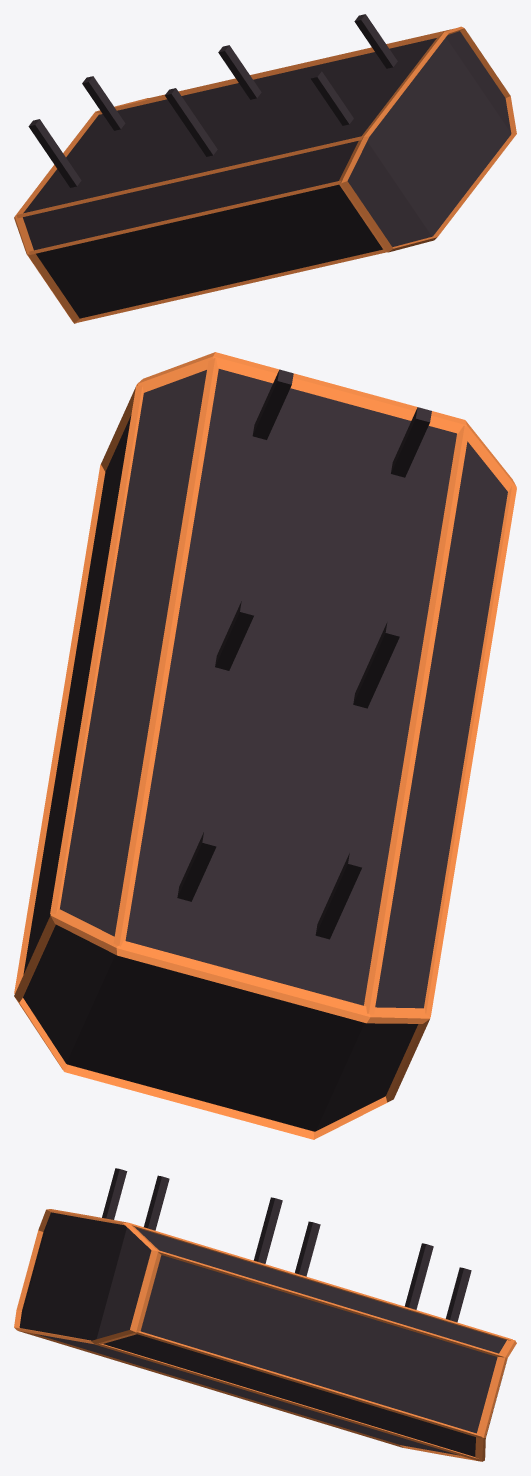
File: F2.Cargo.003.fbx
The picture shows the model from 3 angles, top to bottom: view 1: azimuth 30°, elevation 25°; view 2: azimuth 150°, elevation 25°; view 3: azimuth 270°, elevation 25°; orthographic projection. The views are drawn at different scales.
Visible parts, largest first — view 1: F2.Cargo.001; view 2: F2.Cargo.001; view 3: F2.Cargo.001.
Boxes of the visible parts, left/top/right/bottom form: F2.Cargo.001: left=14, top=14, right=516, bottom=323; F2.Cargo.001: left=14, top=352, right=516, bottom=1139; F2.Cargo.001: left=14, top=1168, right=516, bottom=1461.
Bounding box in the file's own units: 1665 × 1666 × 2224.
